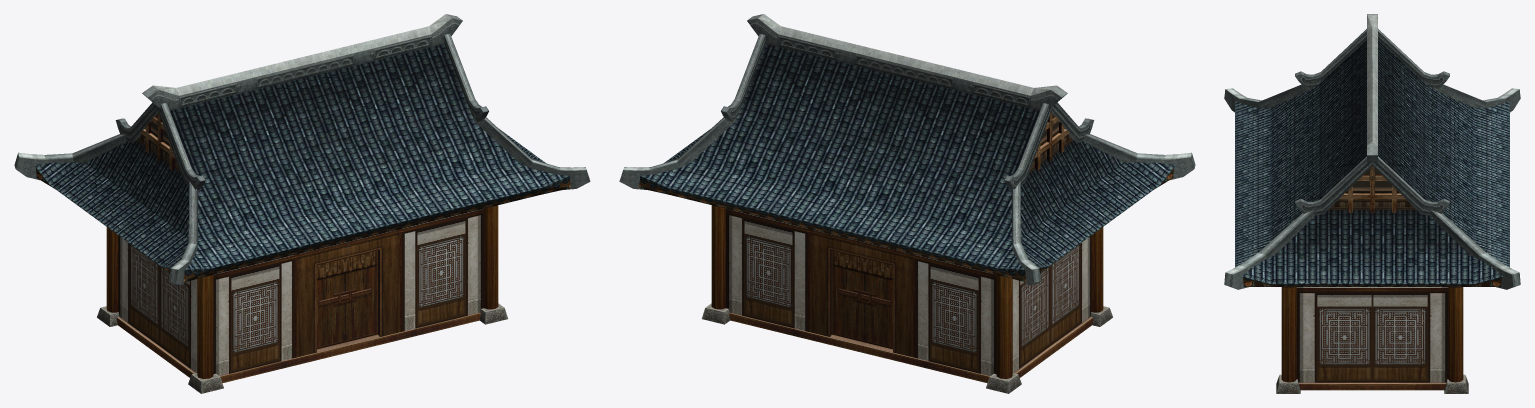
Rendered from b1-016-house9.fbx.
3 renders of one model, left to right at view 1: azimuth 30°, elevation 25°; view 2: azimuth 150°, elevation 25°; view 3: azimuth 270°, elevation 25°, orthographic. The views are drawn at different scales.
Parts seen in each view (by area): view 1: b1-016-house9; view 2: b1-016-house9; view 3: b1-016-house9.
Part boxes in pixels (x1,y1,x2,y2): b1-016-house9: (14, 14, 590, 393); b1-016-house9: (619, 14, 1195, 393); b1-016-house9: (1224, 14, 1520, 393).
Size of the model in its own units: 11.71 by 7.08 by 7.76.
